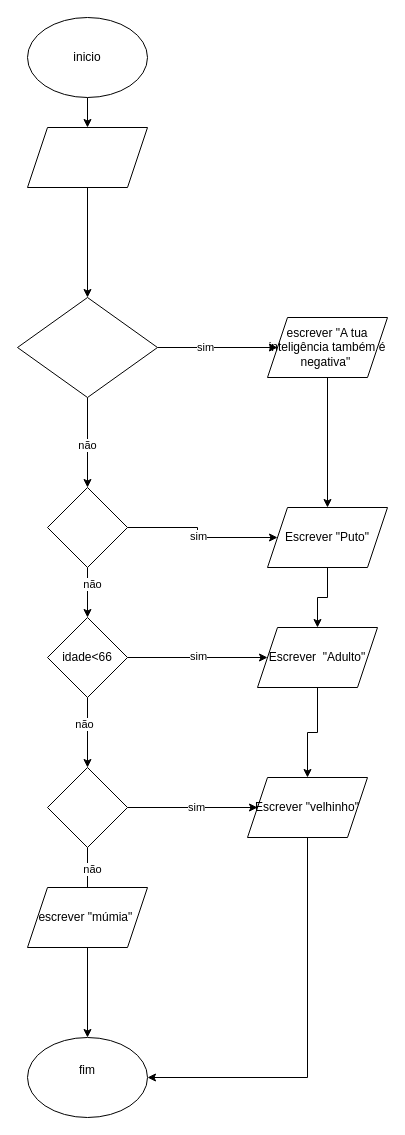
Image size: 405x1135. Some labels were removed from this diagram. Each missing label, with the centre of its shape:
"idade<0" goes at point (87, 347).
"idade<151" goes at point (87, 807).
"idade<18" goes at point (87, 527).
"ler idade" goes at point (87, 157).
